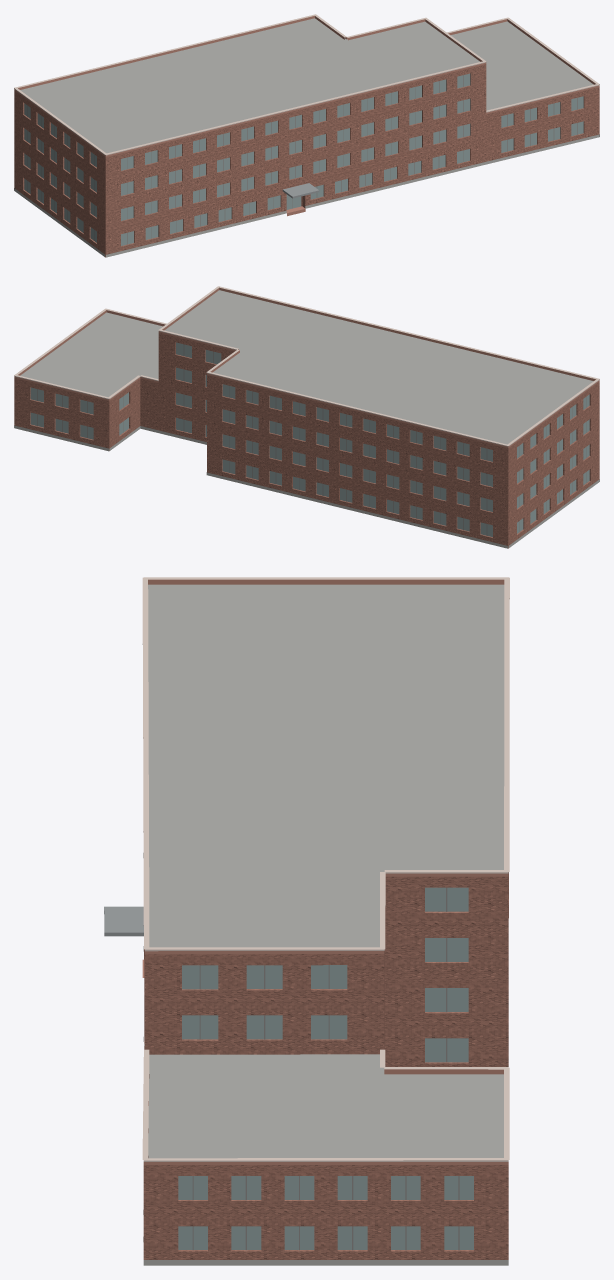
3 renders of one model, top to bottom at view 1: azimuth 30°, elevation 25°; view 2: azimuth 150°, elevation 25°; view 3: azimuth 270°, elevation 25°, orthographic. The views are drawn at different scales.
Visible parts, largest first — view 1: b115951831__wall, b115951831__roof, b115951831__glass, b115951831__parapet, b115951831__trim, b115951831__base, b115951831__frame, b115951831__canopy; view 2: b115951831__wall, b115951831__roof, b115951831__glass, b115951831__parapet, b115951831__trim, b115951831__base, b115951831__frame; view 3: b115951831__roof, b115951831__wall, b115951831__glass, b115951831__trim, b115951831__parapet, b115951831__base, b115951831__canopy, b115951831__frame.
Part boxes in pixels (x1,y1,x2,y2): b115951831__wall: (14,64,599,257); b115951831__roof: (20,18,593,153); b115951831__glass: (24,73,583,245); b115951831__parapet: (14,16,599,156); b115951831__trim: (14,14,599,155); b115951831__base: (14,134,599,257); b115951831__frame: (27,75,577,244); b115951831__canopy: (282,183,319,198); b115951831__wall: (14,333,599,548); b115951831__roof: (20,290,593,444); b115951831__glass: (30,342,589,536); b115951831__parapet: (14,287,599,447); b115951831__trim: (14,286,599,446); b115951831__base: (14,425,599,548); b115951831__frame: (37,344,586,535); b115951831__roof: (144,584,504,1158); b115951831__wall: (143,872,508,1259); b115951831__glass: (178,887,473,1249); b115951831__trim: (142,577,509,1161); b115951831__parapet: (143,579,508,1164); b115951831__base: (143,853,508,1265); b115951831__canopy: (104,906,143,936); b115951831__frame: (192,887,459,1250).
Bounding box in the file's own units: 74.28 × 15.15 × 26.38.
10 materials, 1 textured.
